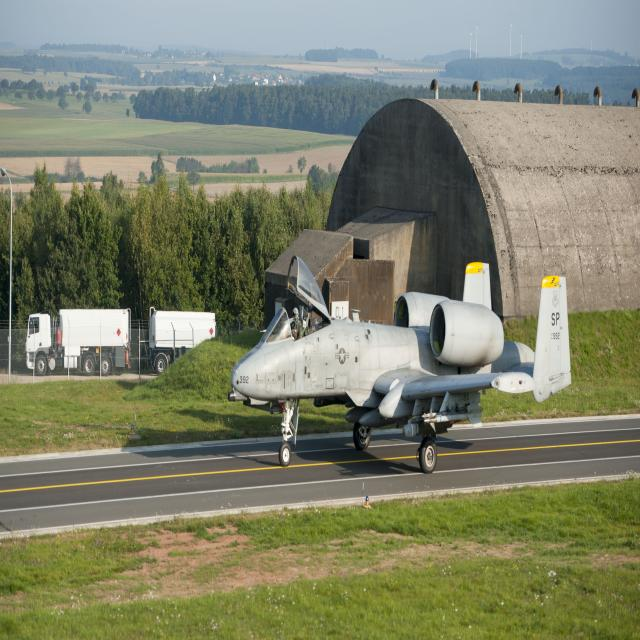MIL_Plane: (228, 255, 572, 474)
